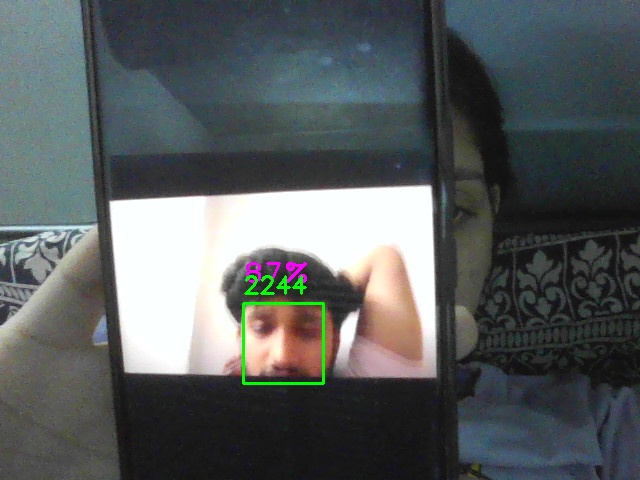fake: (243, 303, 324, 384)
